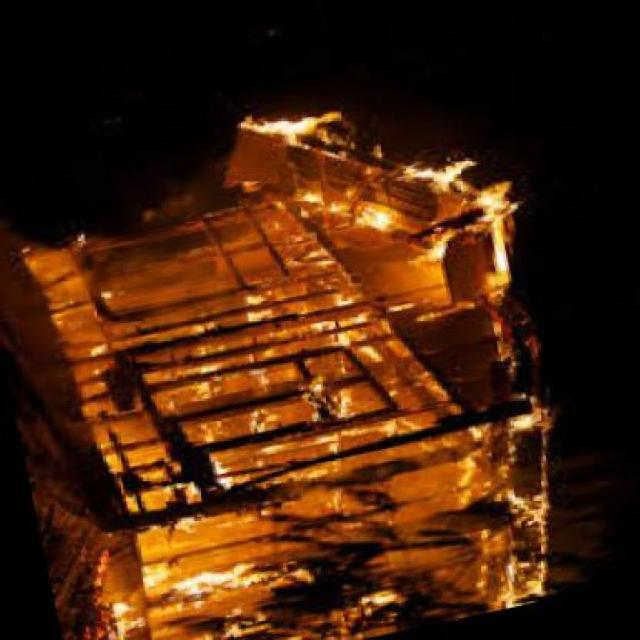Fire: (27, 100, 567, 624)
